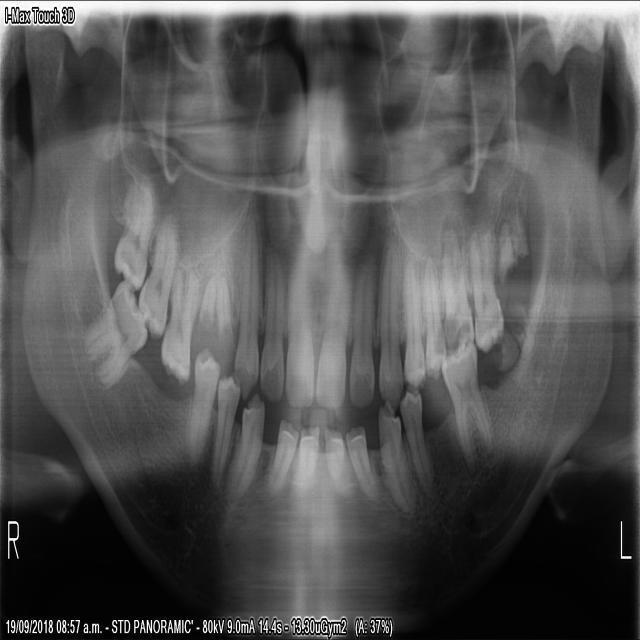LCD: (376, 404, 418, 514)
LCU: (376, 250, 405, 407)
LID: (346, 425, 380, 504), (323, 433, 356, 505)
LIU: (313, 255, 351, 408), (347, 257, 377, 408)
LMD: (442, 343, 492, 468)
LMU: (437, 214, 476, 358), (469, 207, 504, 357), (499, 202, 528, 285)
LPMD: (398, 388, 436, 494)
LPMU: (417, 230, 447, 389), (402, 229, 427, 389)
RCD: (229, 392, 265, 494)
RCU: (231, 219, 261, 399)
RID: (266, 417, 298, 494), (287, 419, 318, 489)
RIU: (284, 244, 314, 408), (259, 250, 284, 400)
RMD: (83, 278, 151, 388)
RMU: (157, 253, 202, 388), (136, 213, 181, 339), (109, 175, 158, 288)
RPMD: (183, 348, 220, 463), (210, 367, 239, 482)
RPMU: (215, 273, 234, 345), (198, 269, 216, 332)
